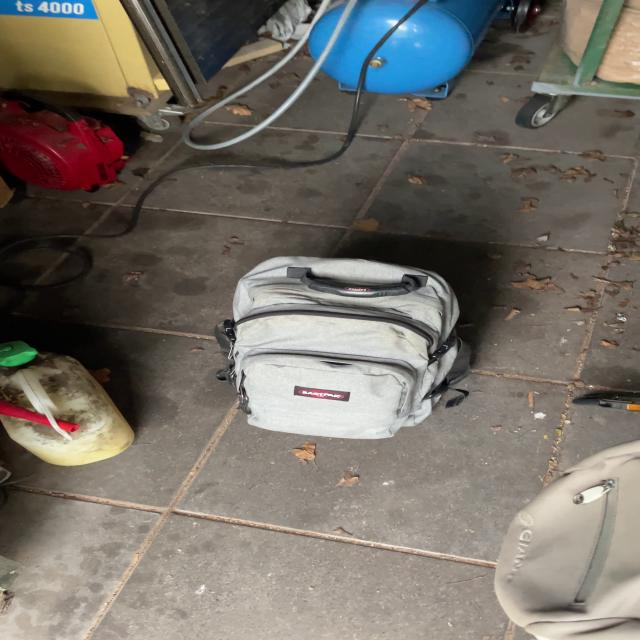backpack: (206, 248, 484, 446)
